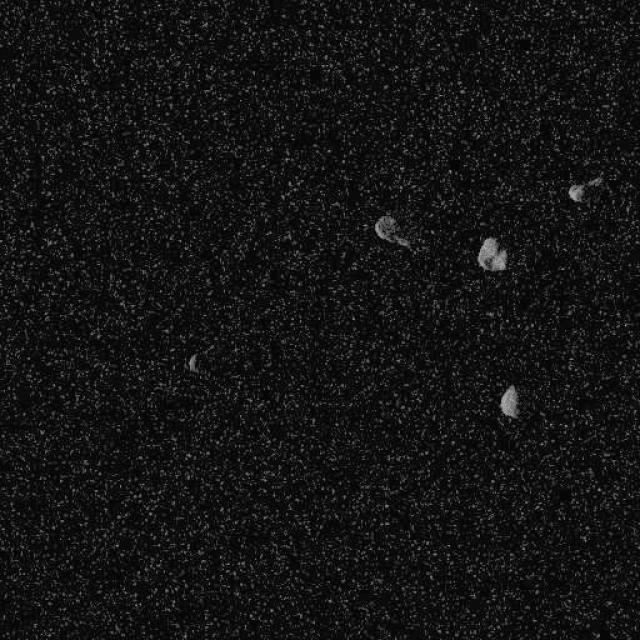D2: (372, 214, 412, 248), (475, 235, 507, 271), (566, 174, 604, 204), (499, 384, 519, 418), (185, 352, 200, 372)
